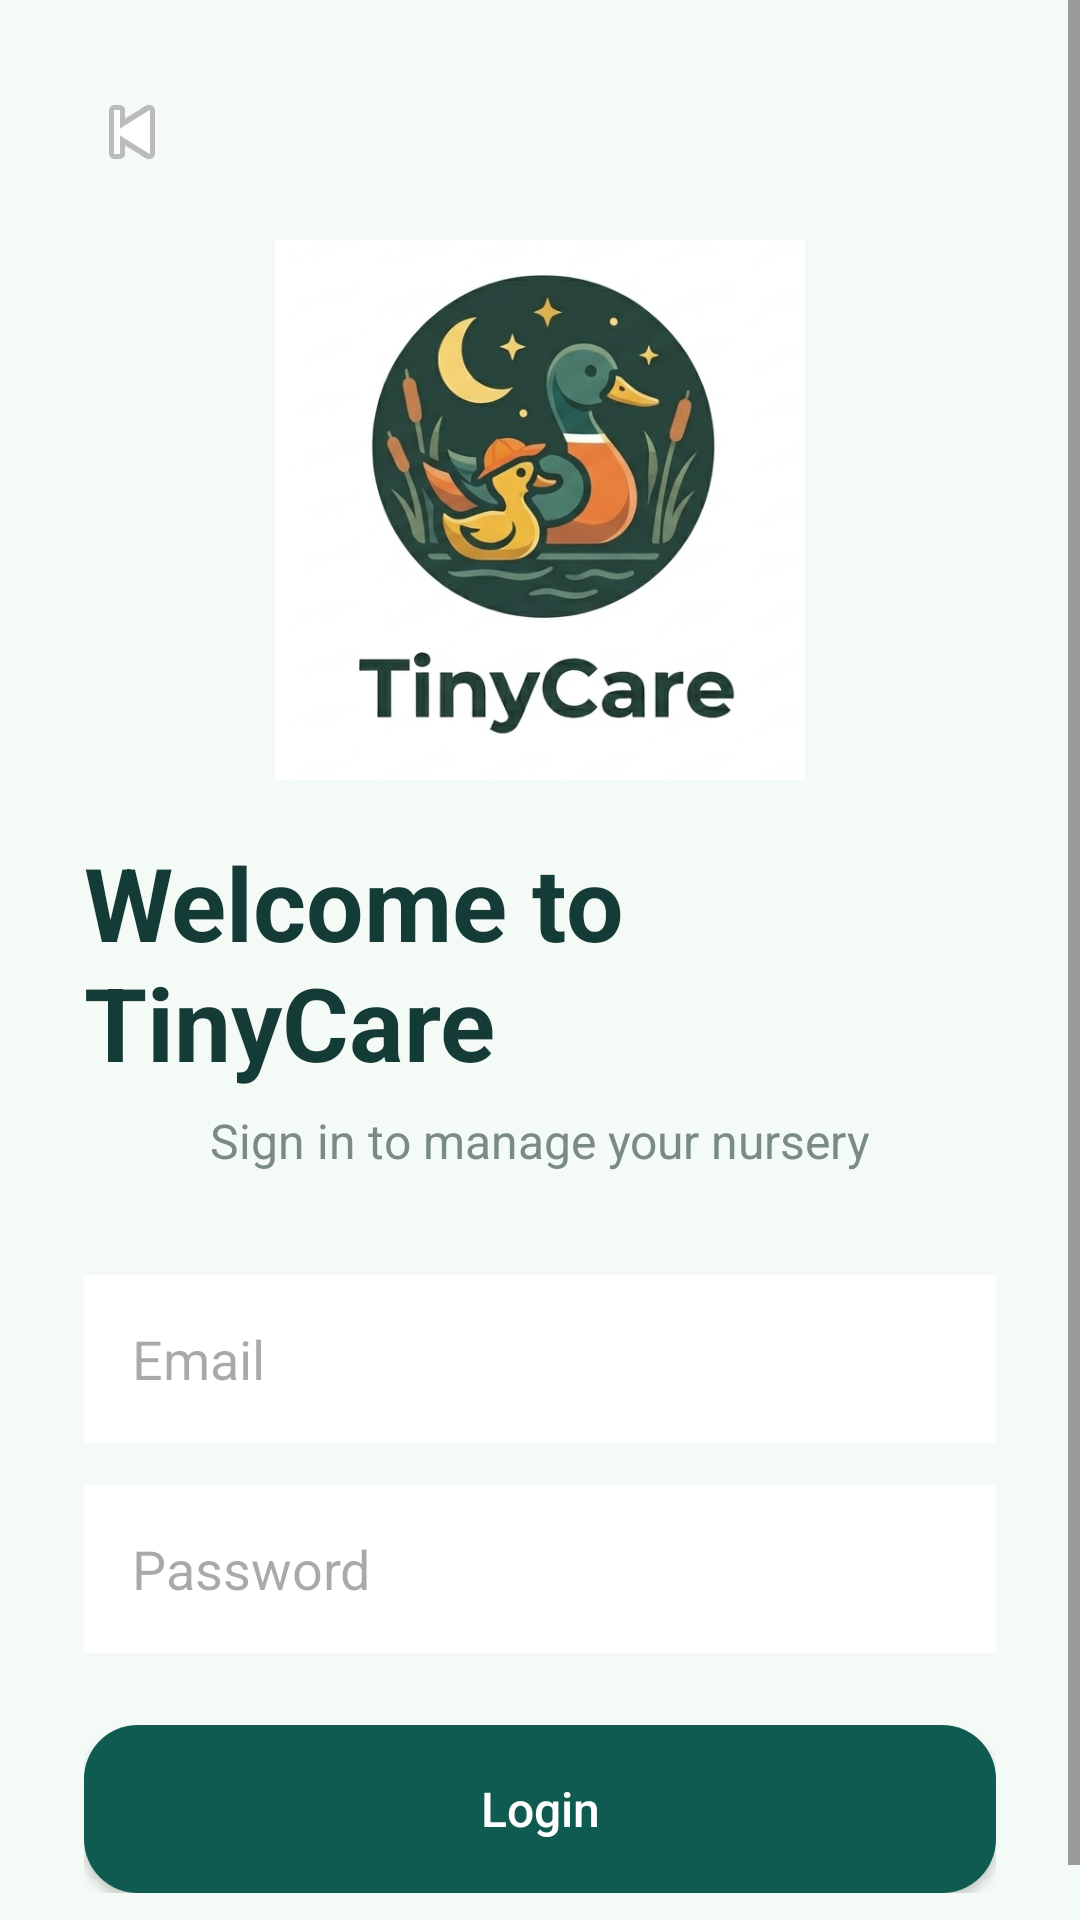

Icon click points for this 1080×1920 phone screenshot, format (x=x, y=y):
Back: (x=132, y=132)
